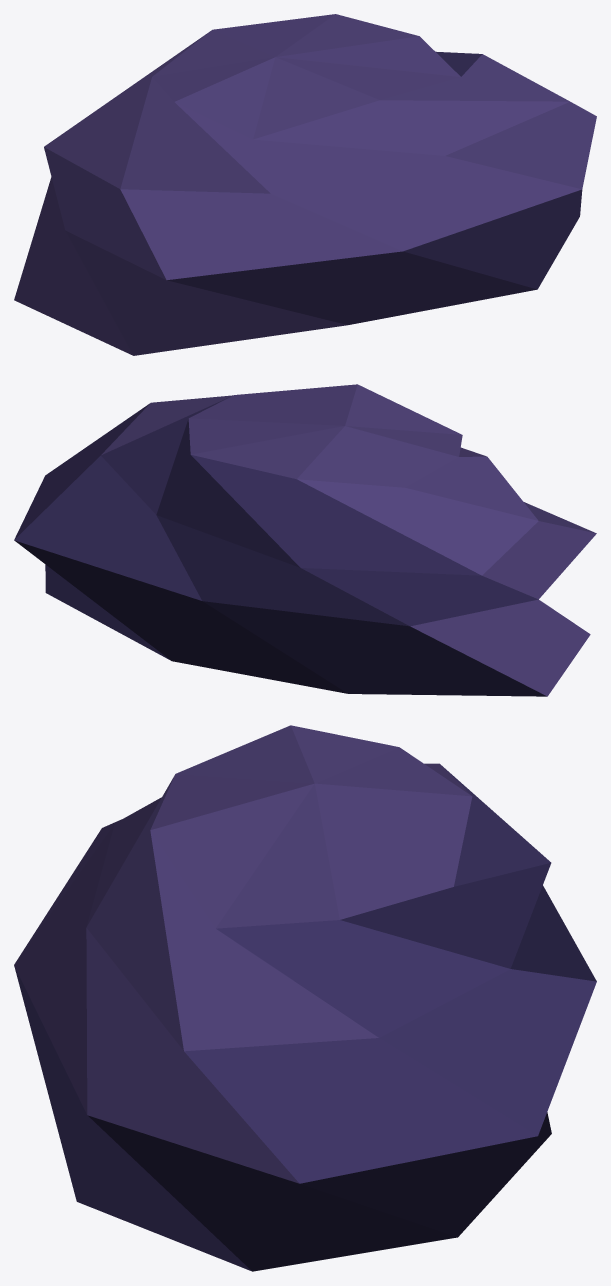
File: rock-2.glb
The picture shows the model from 3 angles, top to bottom: view 1: azimuth 30°, elevation 25°; view 2: azimuth 150°, elevation 25°; view 3: azimuth 270°, elevation 25°; orthographic projection. The views are drawn at different scales.
Visible parts, largest first — view 1: rock-2; view 2: rock-2; view 3: rock-2.
Boxes of the visible parts, x1,y1,x2,y2 form: rock-2: (14, 14, 596, 355); rock-2: (14, 384, 596, 696); rock-2: (14, 725, 596, 1271).
Bounding box in the file's own units: 3.27 × 1.21 × 2.14.
